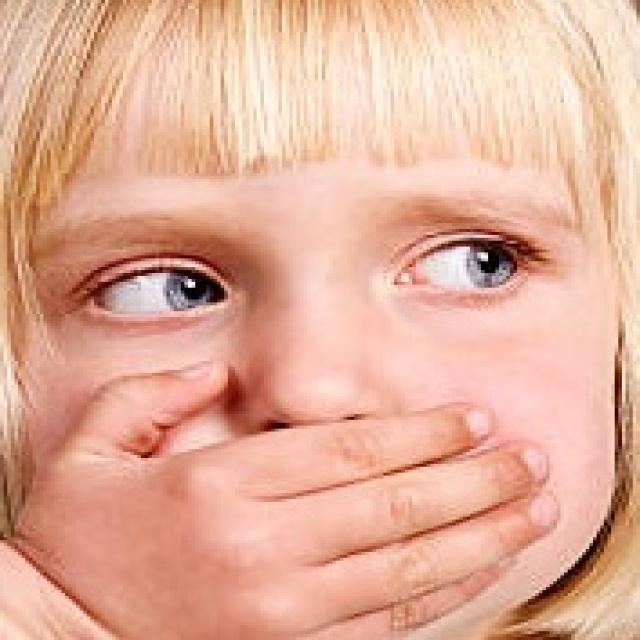Anxiety: (8, 70, 629, 637)
